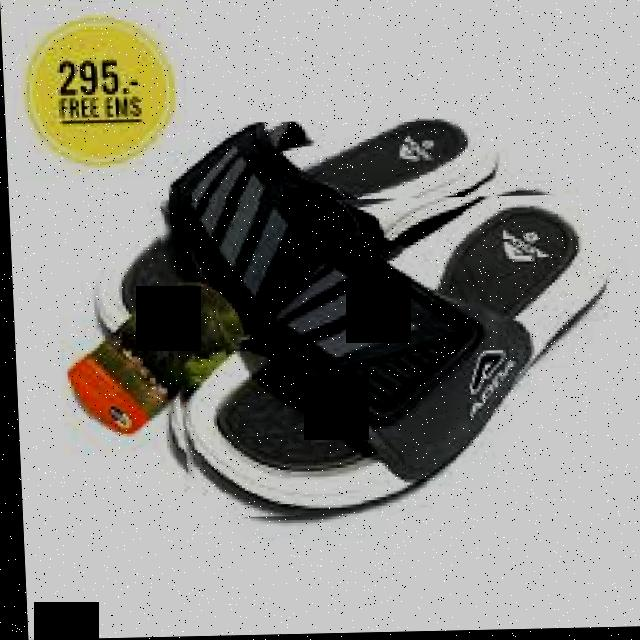shoe: (76, 118, 613, 529), (154, 197, 612, 521)
